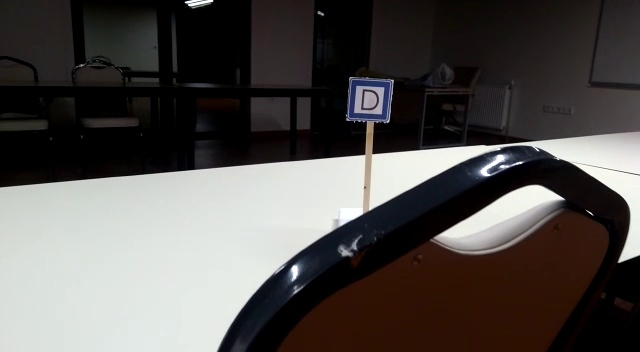durak: (345, 77, 392, 122)
